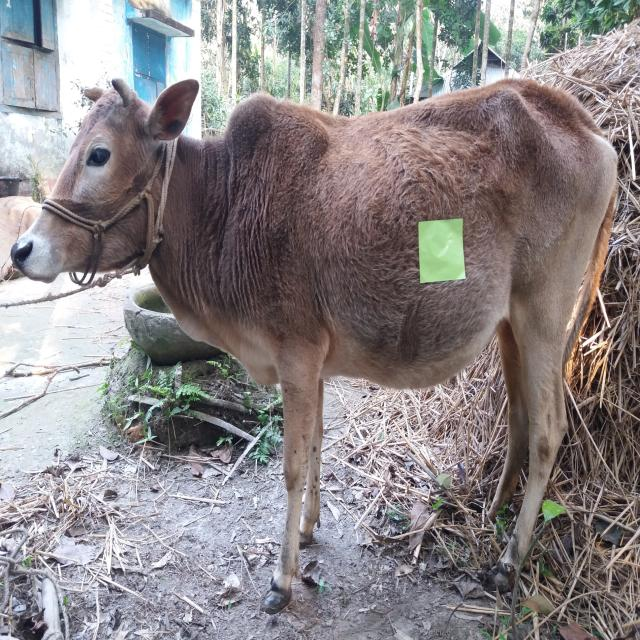badan_sapi: (234, 75, 616, 395)
sapi: (11, 55, 626, 614)
